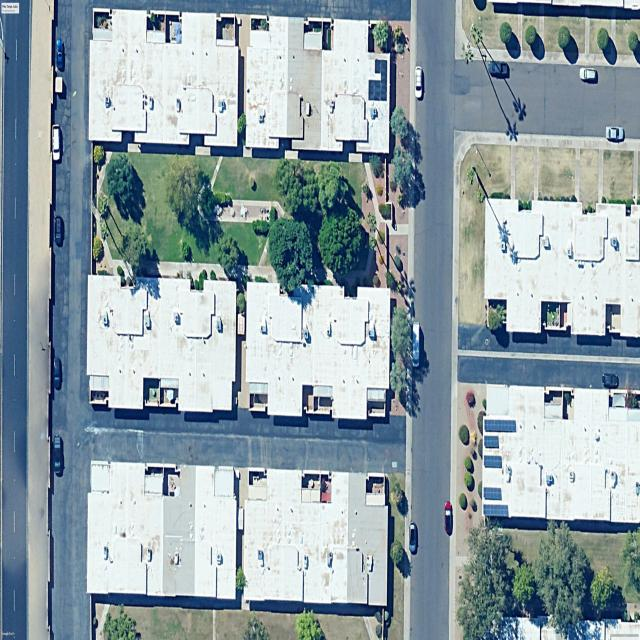Home: (483, 385, 640, 525), (484, 199, 640, 337), (88, 9, 239, 148), (87, 461, 238, 600), (243, 469, 389, 609), (243, 16, 392, 153), (87, 275, 236, 411), (246, 283, 390, 419)
